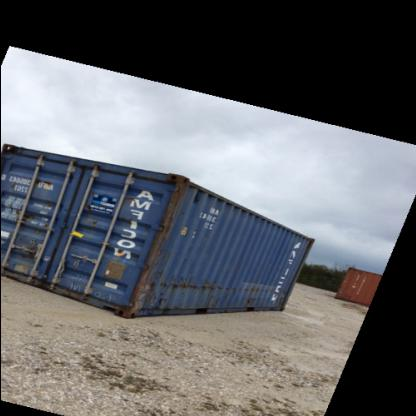Damage: (156, 178, 190, 240), (152, 278, 242, 296), (63, 278, 120, 300), (129, 256, 149, 312), (76, 209, 106, 232), (15, 232, 42, 256), (243, 282, 277, 296), (15, 204, 39, 222), (107, 241, 131, 258), (30, 172, 54, 188), (68, 242, 82, 266), (10, 178, 20, 196)
